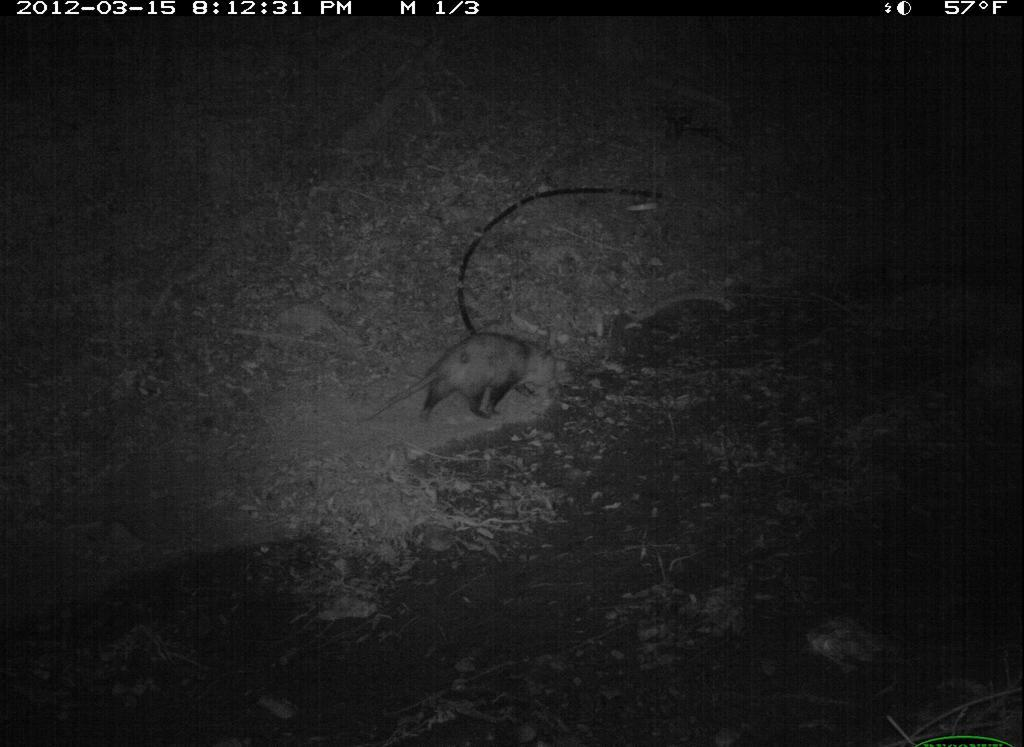opossum: (349, 318, 582, 446)
